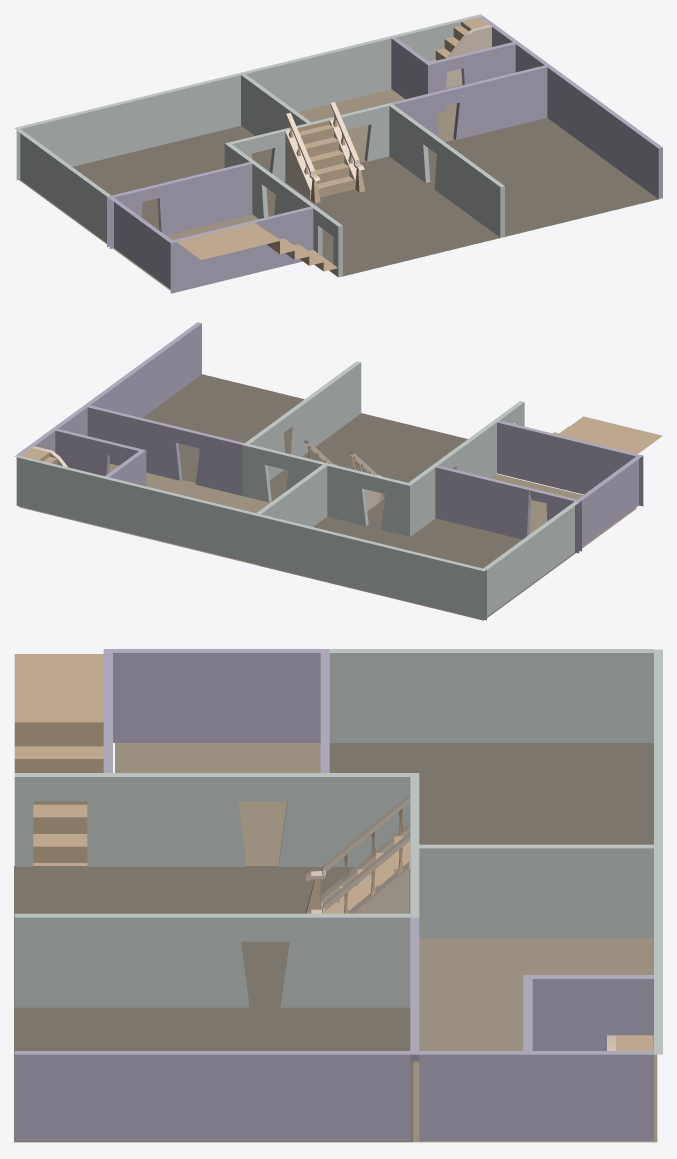
The model's file is FloorOne.fbx.
3 views of the same model, one above another, from view 1: azimuth 30°, elevation 25°; view 2: azimuth 150°, elevation 25°; view 3: azimuth 270°, elevation 25° (orthographic). The views are drawn at different scales.
Visible parts, largest first — view 1: polySurface28; view 2: polySurface28; view 3: polySurface28.
Boxes of the visible parts, x1,y1,x2,y2 form: polySurface28: (14,14,662,293); polySurface28: (14,322,662,620); polySurface28: (14,649,662,1142).
Bounding box in the file's own units: 105 × 14.58 × 71.04.
